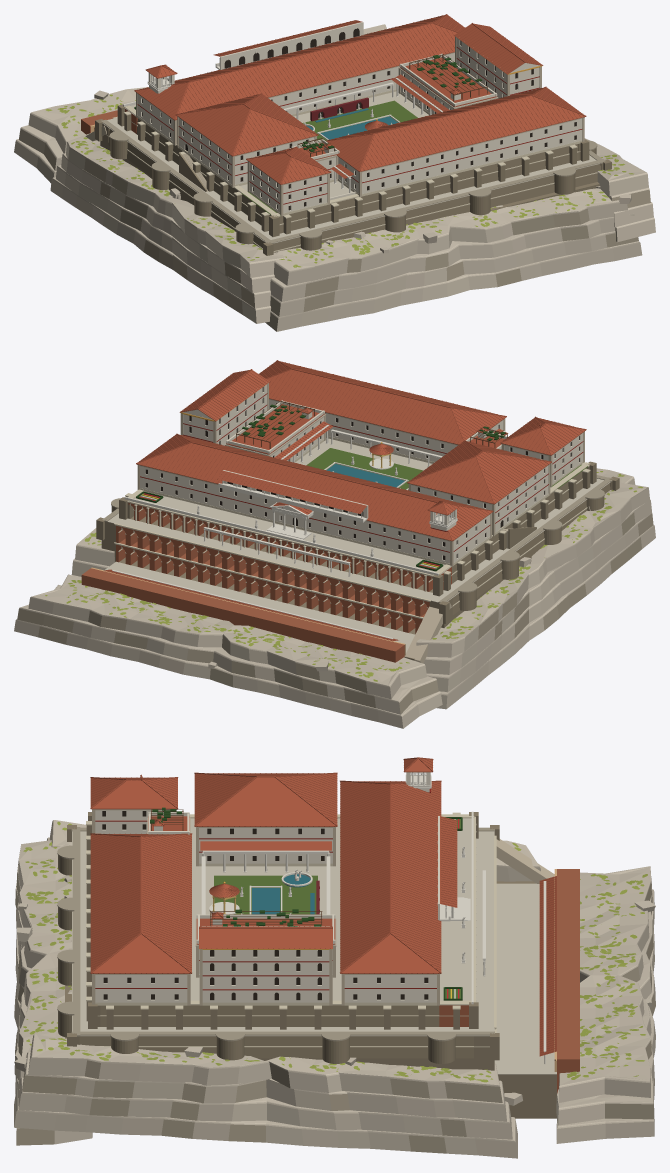
File: rome_tiberiana.glb
3 views of the same model, one above another, from view 1: azimuth 30°, elevation 25°; view 2: azimuth 150°, elevation 25°; view 3: azimuth 270°, elevation 25° (orthographic). The views are drawn at different scales.
Visible parts, largest first — view 1: rome_tiberiana; view 2: rome_tiberiana; view 3: rome_tiberiana.
Part boxes in pixels (bbox=[...]): rome_tiberiana: bbox=[14, 14, 655, 331]; rome_tiberiana: bbox=[14, 360, 655, 728]; rome_tiberiana: bbox=[14, 757, 655, 1158].
Size of the model in its own units: 165 by 62.39 by 185.
